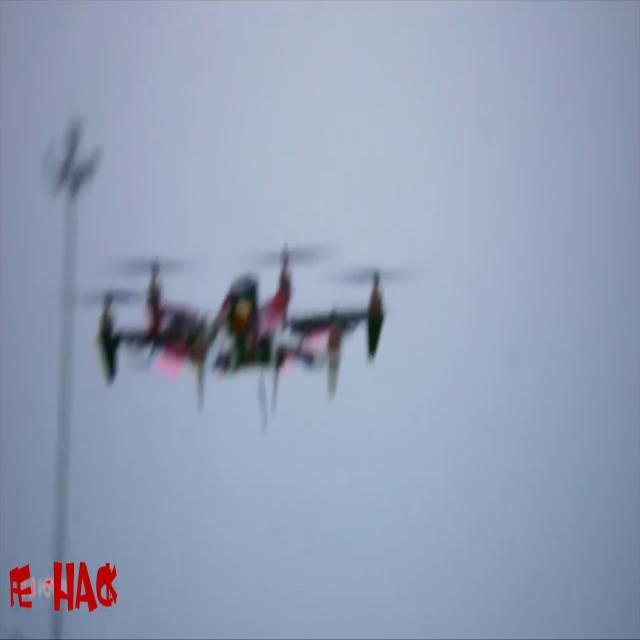drone: (53, 228, 409, 430)
